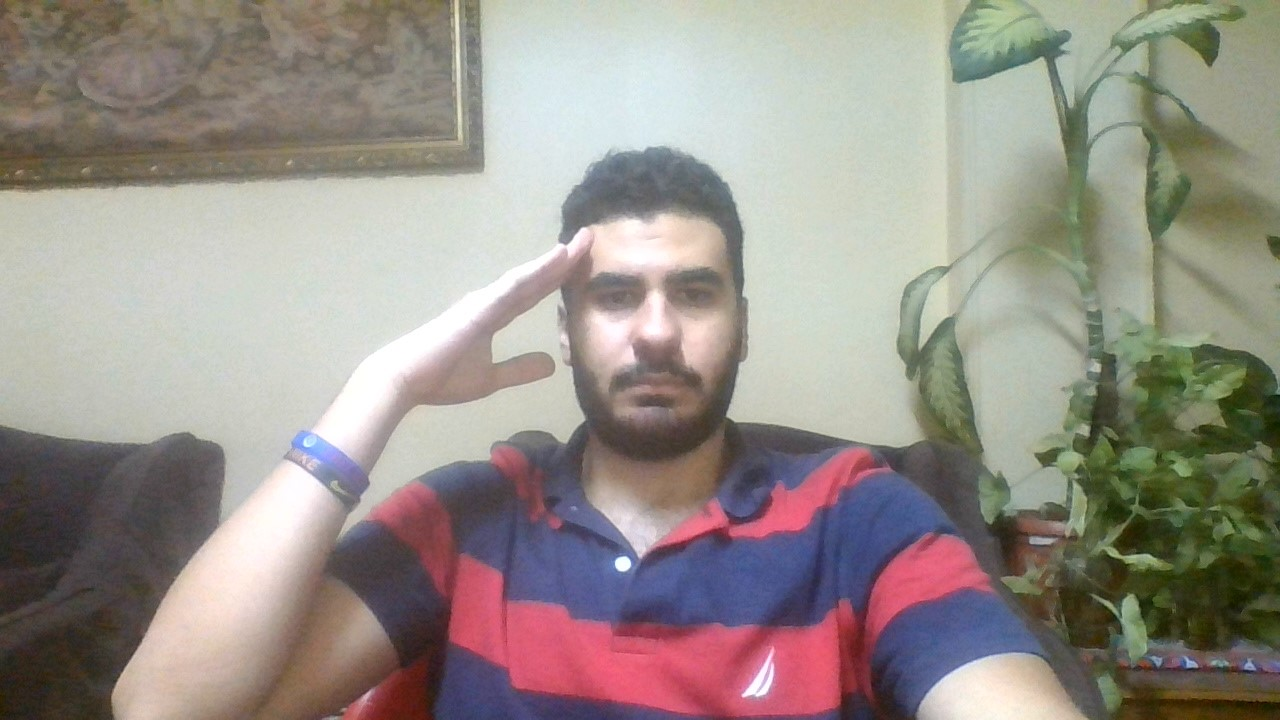hello: (371, 232, 599, 414)
